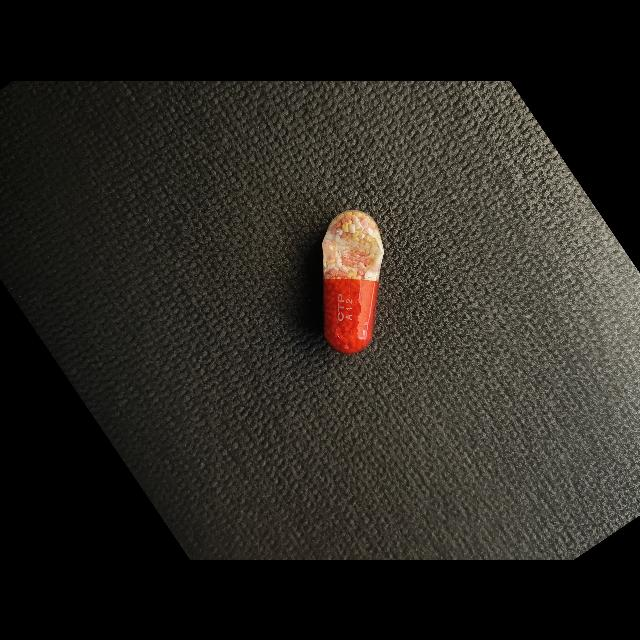Defective Capsule: (322, 209, 384, 353)
